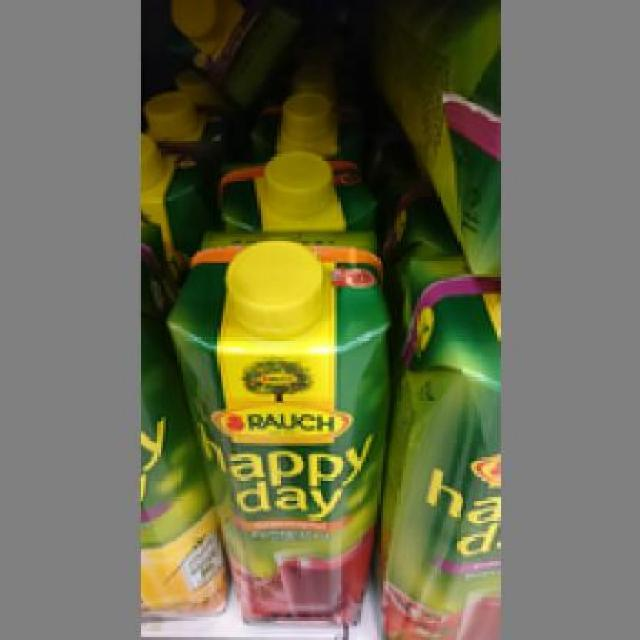Juice: (162, 226, 388, 620)
